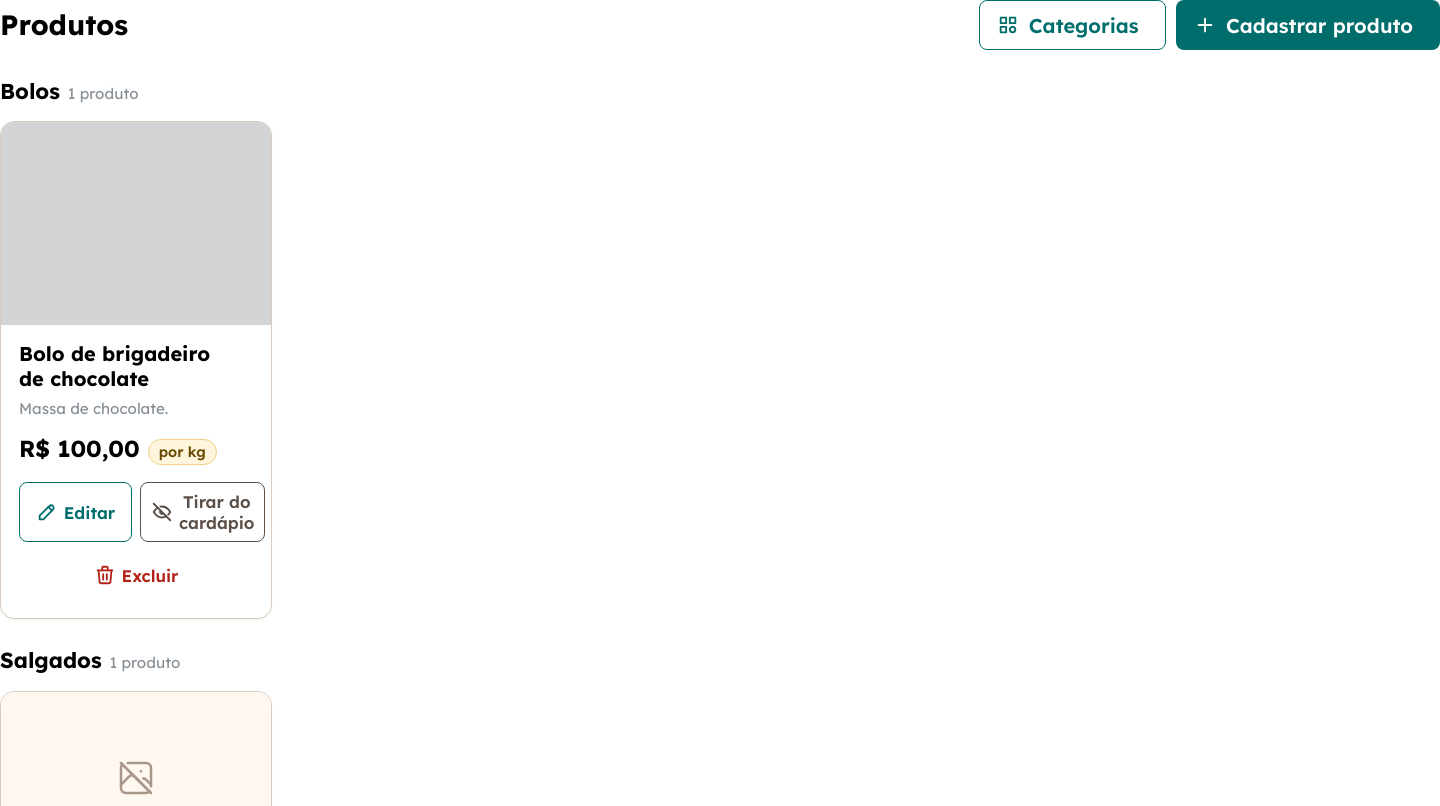
Test: Lista de produtos (ZAP-41, RF05, RF06) › tirar do cardápio pede confirmação, com o foco em "Manter no cardápio", e o produto continua na lista (ZAP-155)
The image size is (1440, 806).
Click the button with aria-label "Tirar Bolo de brigadeiro de chocolate do cardápio". click: [203, 512]
box: [140,482,266,542]
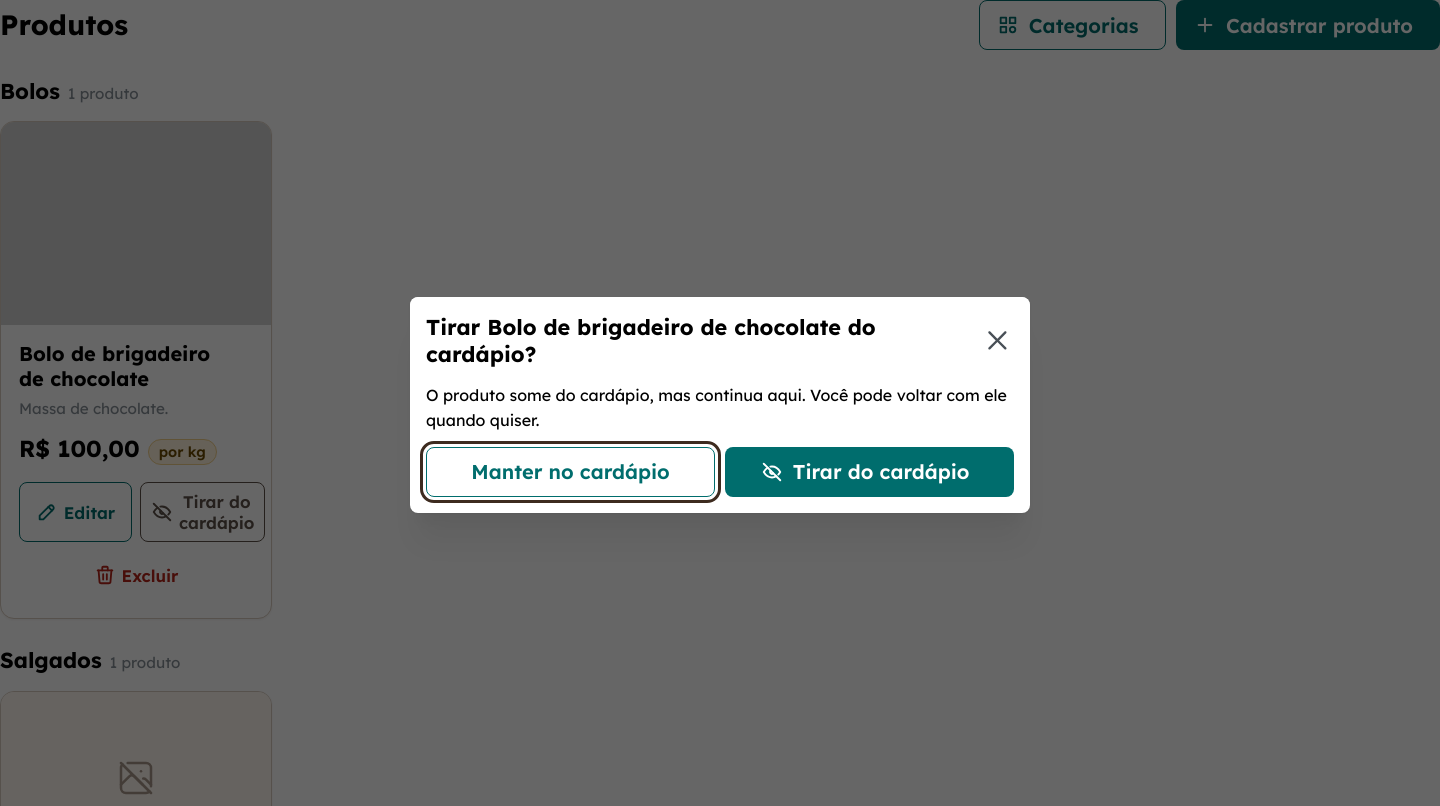
Result: the text "O produto some do cardápio, mas continua aqui. Você pode voltar com ele quando quiser." is shown at [426,385,1007,430]
Click the button "Tirar do cardápio". click: [870, 472]
box: [725,447,1014,497]
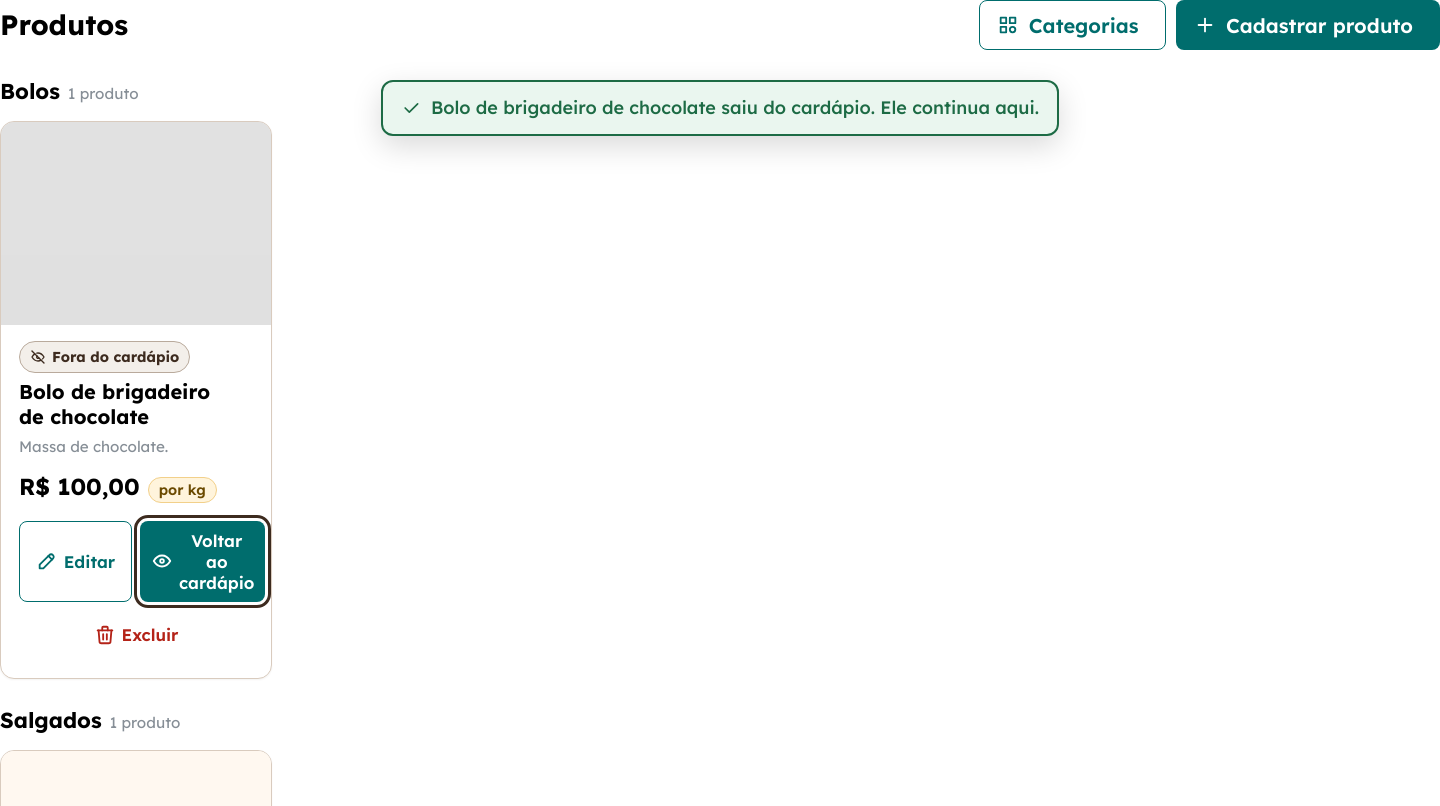
Result: the text "Bolo de brigadeiro de chocolate saiu do cardápio. Ele continua aqui." is shown at [381,80,1059,136]
Result: the text "Fora do cardápio" is shown at [19,341,190,373]
Result: the button with aria-label "Voltar Bolo de brigadeiro de chocolate ao cardápio" is shown at [140,521,266,602]
